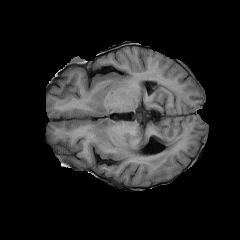glioma: (123, 132, 179, 168)
